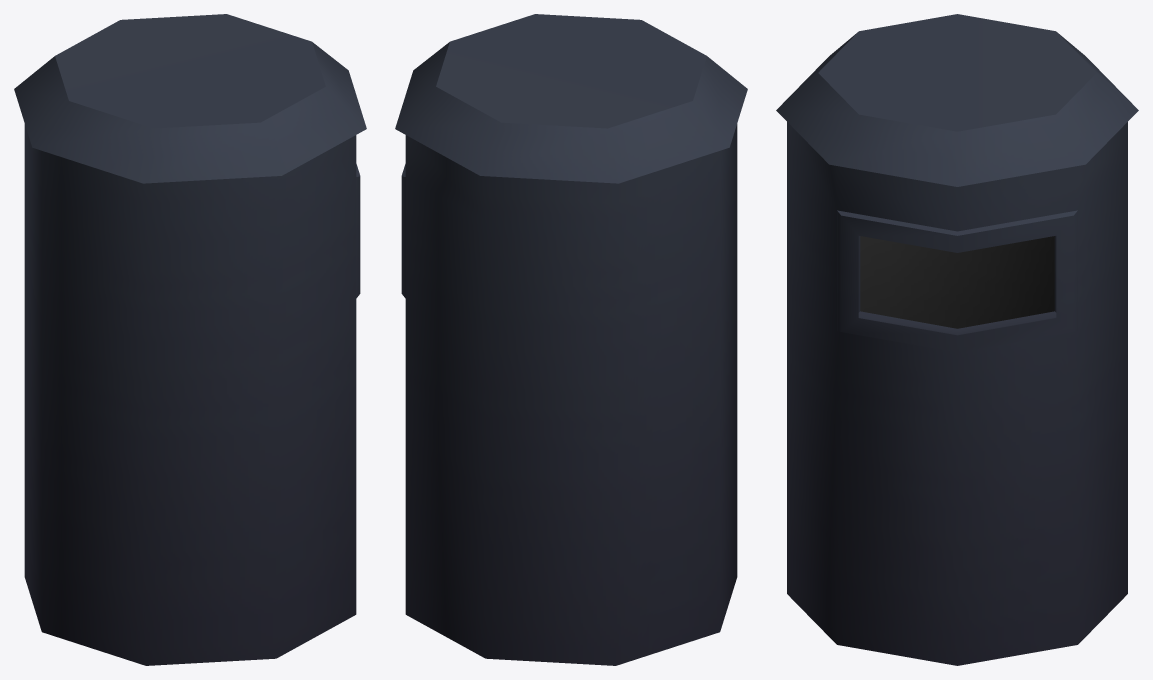
Rendered from Trash_Can.glb.
3 renders of one model, left to right at view 1: azimuth 30°, elevation 25°; view 2: azimuth 150°, elevation 25°; view 3: azimuth 270°, elevation 25°, orthographic.
Visible parts, largest first — view 1: trash_can; view 2: trash_can; view 3: trash_can.
Part boxes in pixels (<box>): trash_can: <box>14,14,366,665</box>; trash_can: <box>395,14,747,665</box>; trash_can: <box>776,14,1138,665</box>.
Bounding box in the file's own units: 0.5049 × 0.8 × 0.5049.
Materials: 1 (1 with a texture image).
